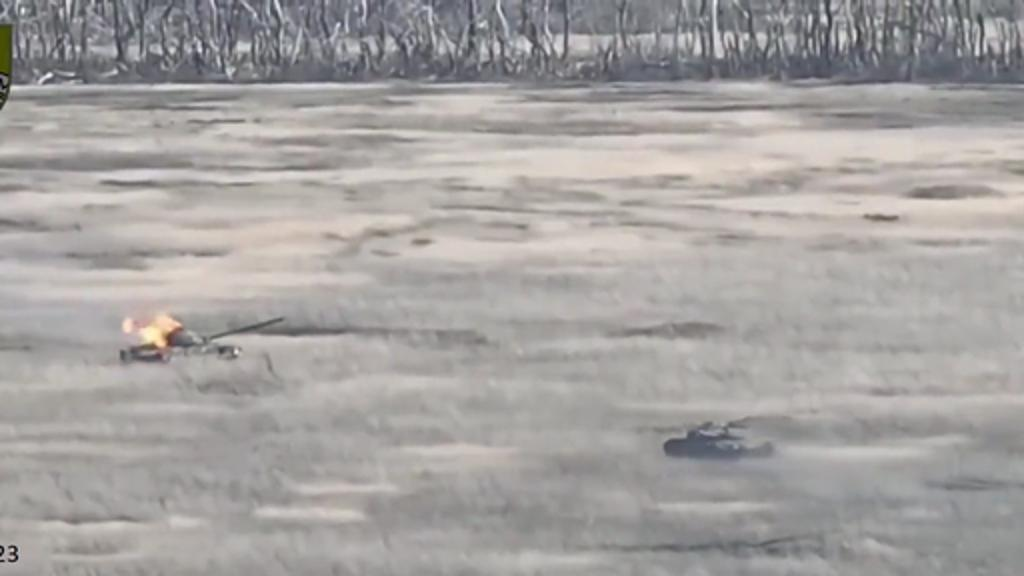TANK: (110, 312, 282, 370), (654, 414, 778, 470)
